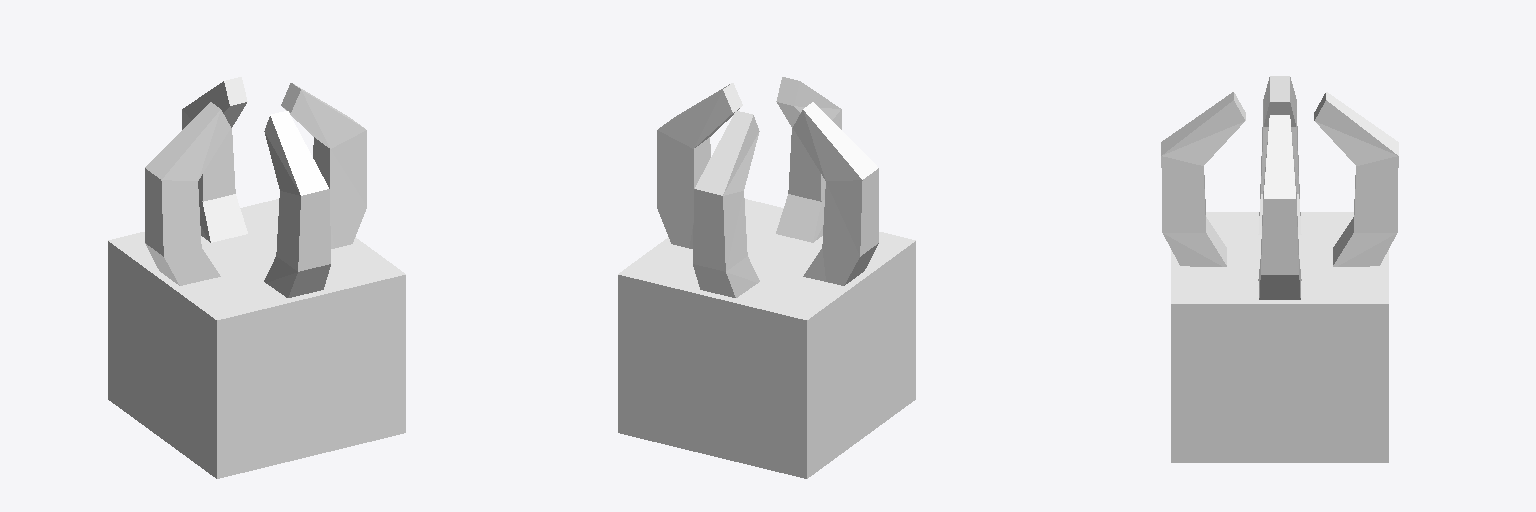
The model's file is leydesynth.obj.
The picture shows the model from 3 angles: view 1: azimuth 30°, elevation 25°; view 2: azimuth 150°, elevation 25°; view 3: azimuth 270°, elevation 25°; orthographic projection.
Visible parts, largest first — view 1: g0; view 2: g0; view 3: g0.
Part boxes in pixels (bbox=[...]): g0: bbox=[108, 77, 405, 478]; g0: bbox=[618, 77, 915, 478]; g0: bbox=[1161, 76, 1398, 462].
Size of the model in its own units: 1.08 by 1.62 by 1.08.